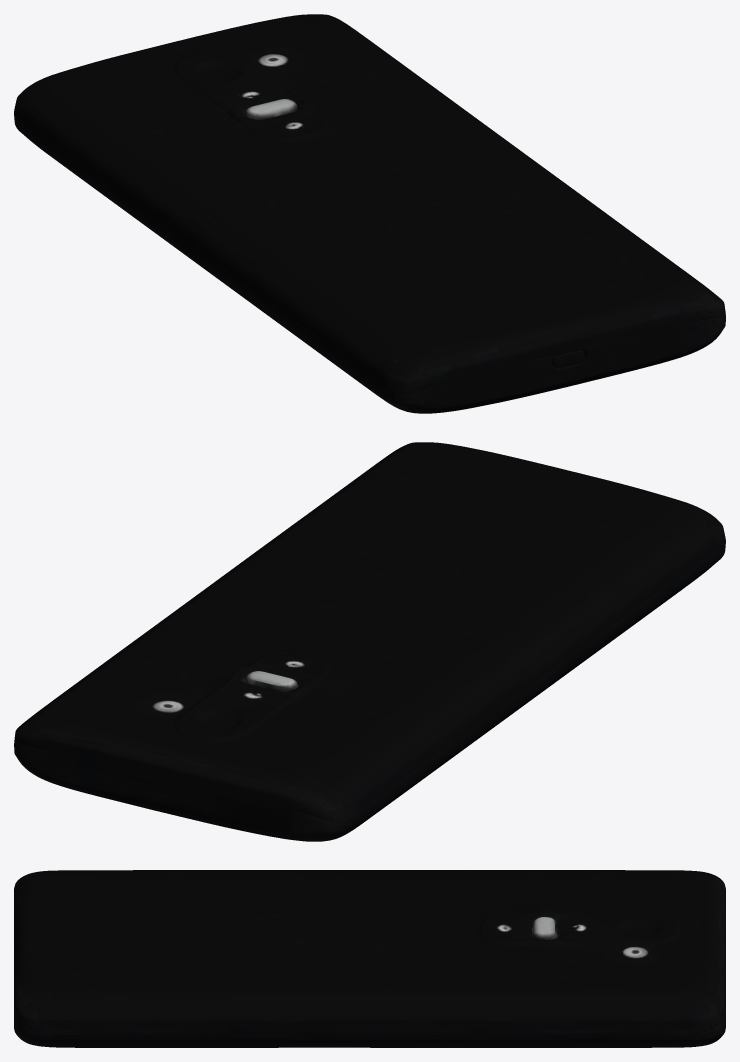
The model's file is item-lgg2.glb.
3 views of the same model, one above another, from view 1: azimuth 30°, elevation 25°; view 2: azimuth 150°, elevation 25°; view 3: azimuth 270°, elevation 25° (orthographic). The views are drawn at different scales.
Parts seen in each view (by area): view 1: material; view 2: material; view 3: material.
Boxes of the visible parts, bbox=[...] form: material: bbox=[14, 14, 725, 413]; material: bbox=[14, 442, 725, 841]; material: bbox=[14, 870, 725, 1047].
Bounding box in the file's own units: 0.5355 × 0.1047 × 1.11.
1 material, 1 textured.
